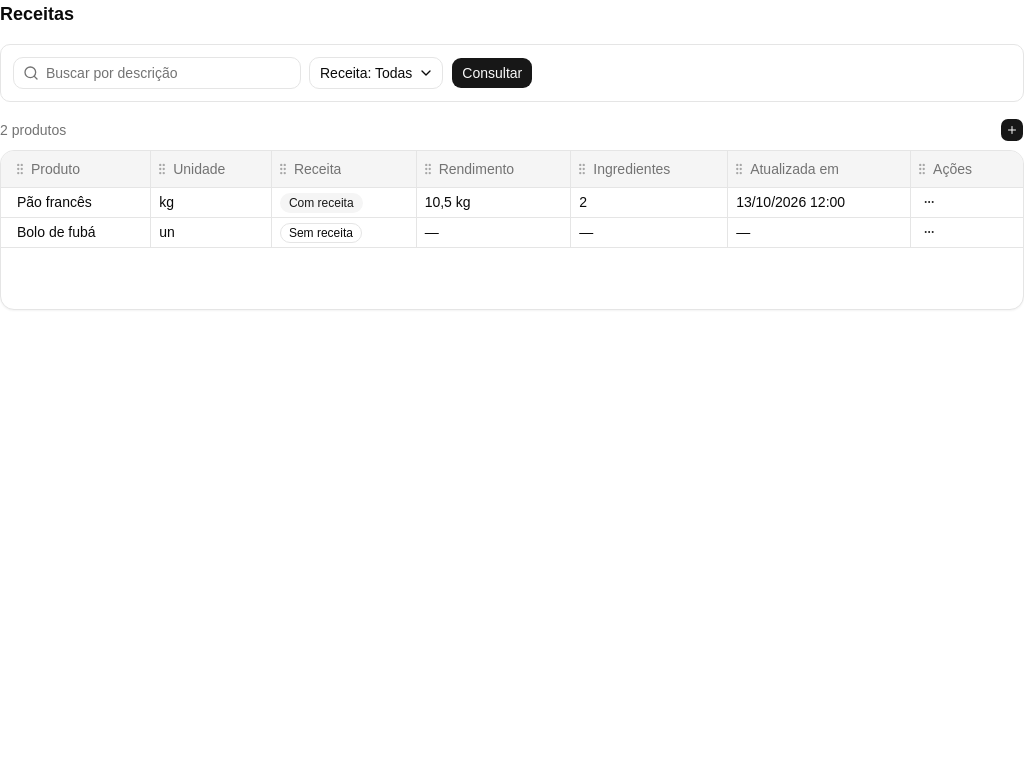
Test case: RecipesListPage › opens the recipe straight into its form from the actions of the row
Click the button named "Ações de Pão francês": (929, 202) [919,192,939,212]
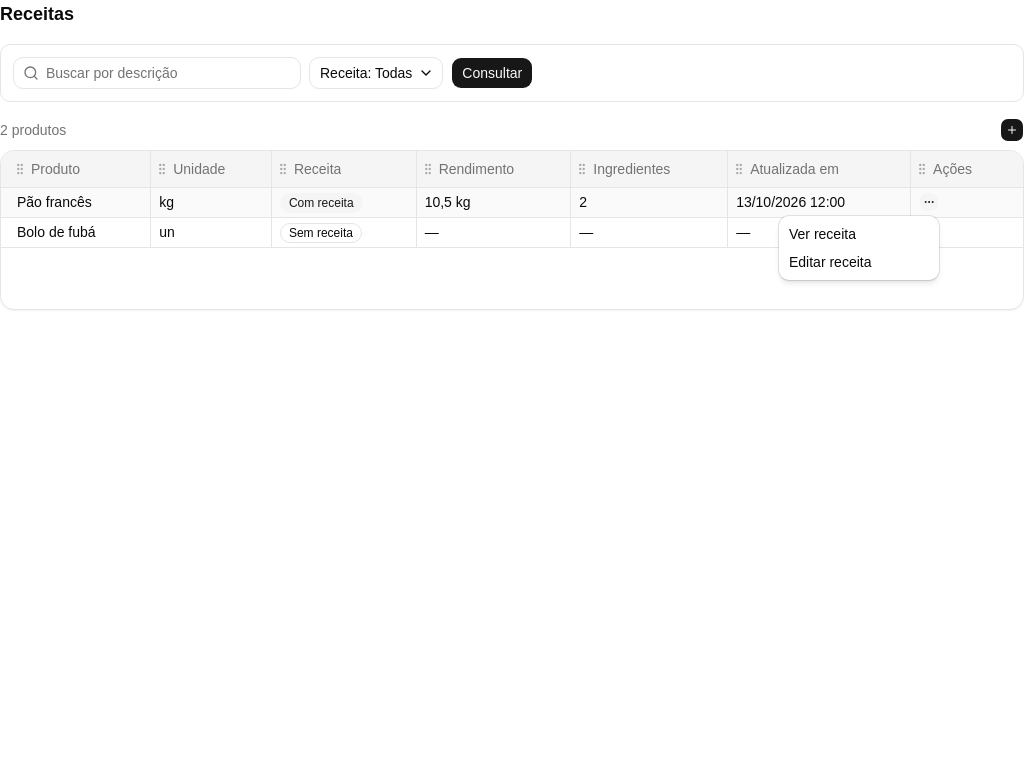
Click the menu item "Editar receita": (830, 262) [789,254,872,270]
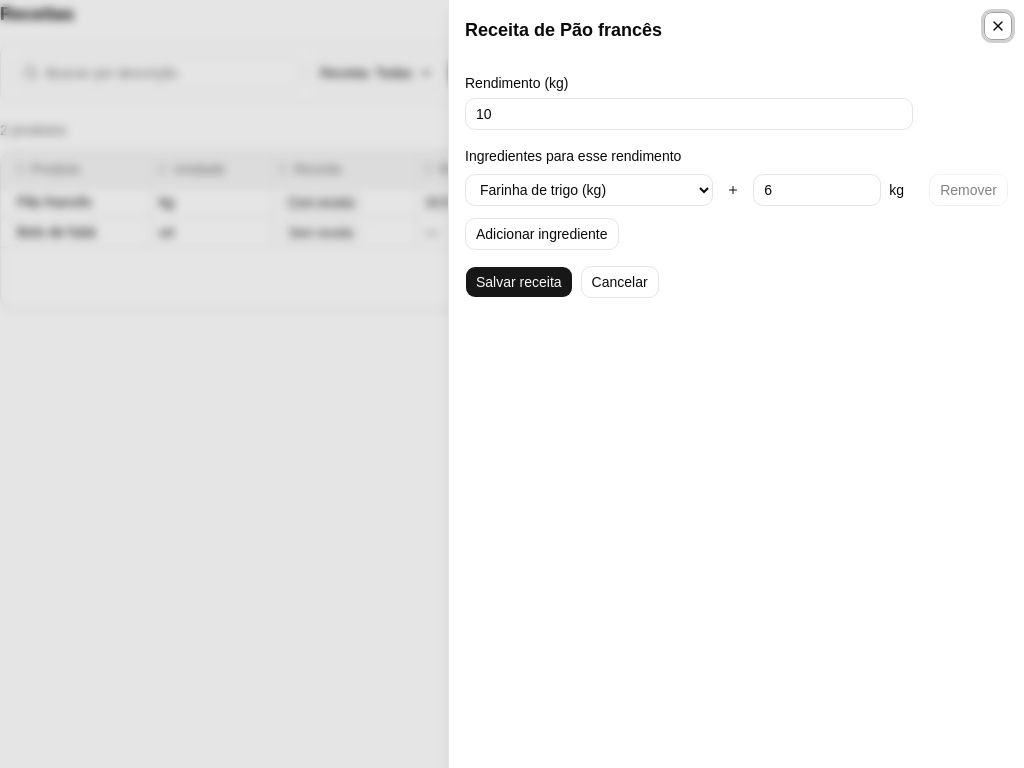
Expected: the field labelled "Rendimento (kg)" holds "10", [465,98,913,130]
